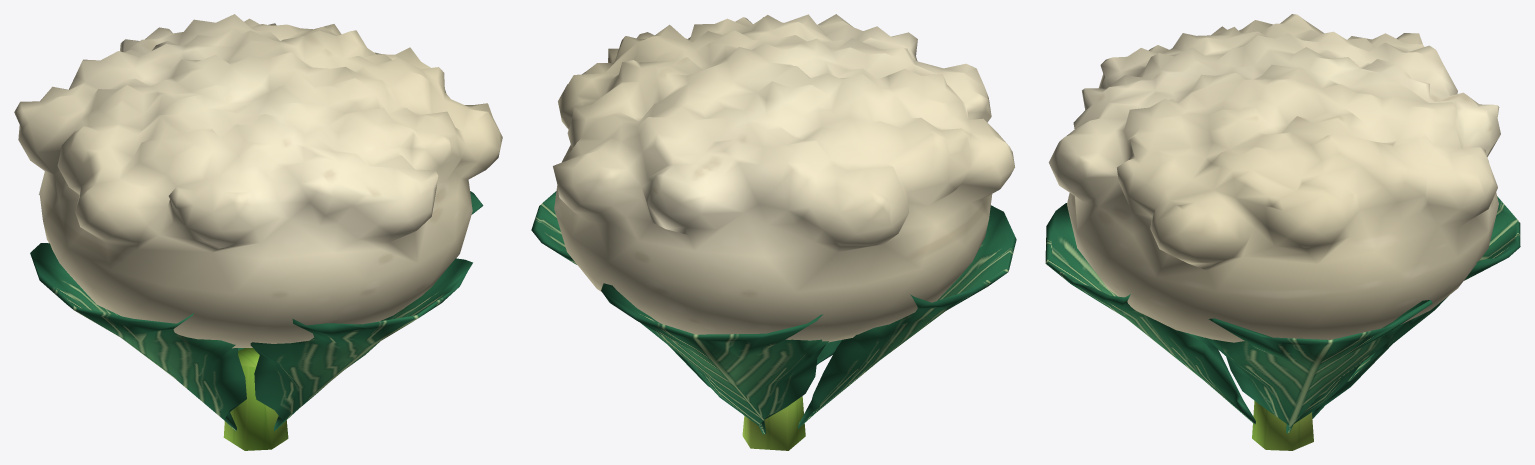
The model's file is NP_Cauliflower_Harvest_LOD1.fbx.
3 views of the same model, side by side, from view 1: azimuth 30°, elevation 25°; view 2: azimuth 150°, elevation 25°; view 3: azimuth 270°, elevation 25° (orthographic). The views are drawn at different scales.
Parts seen in each view (by area): view 1: NP_Cauliflower_Harvest; view 2: NP_Cauliflower_Harvest; view 3: NP_Cauliflower_Harvest.
Boxes of the visible parts, x1,y1,x2,y2 form: NP_Cauliflower_Harvest: [14, 14, 502, 450]; NP_Cauliflower_Harvest: [531, 14, 1016, 450]; NP_Cauliflower_Harvest: [1045, 14, 1520, 450].
Bounding box in the file's own units: 50.58 × 44.02 × 50.54.
